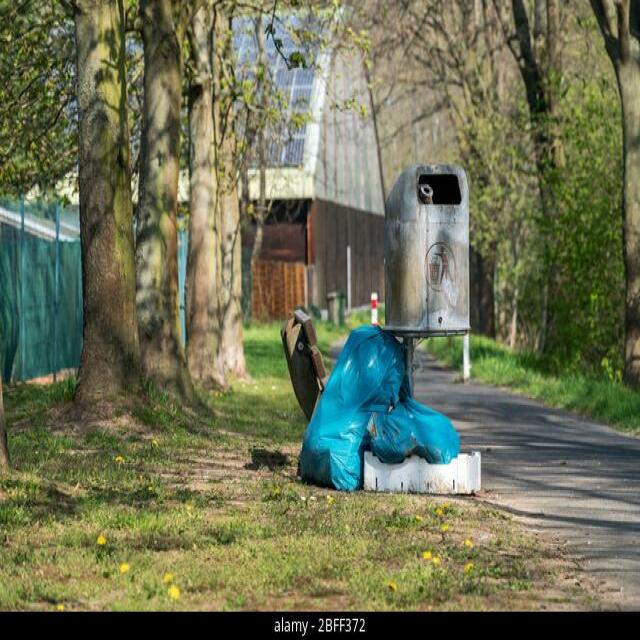metal: (379, 153, 488, 330)
trash: (306, 322, 444, 506)
